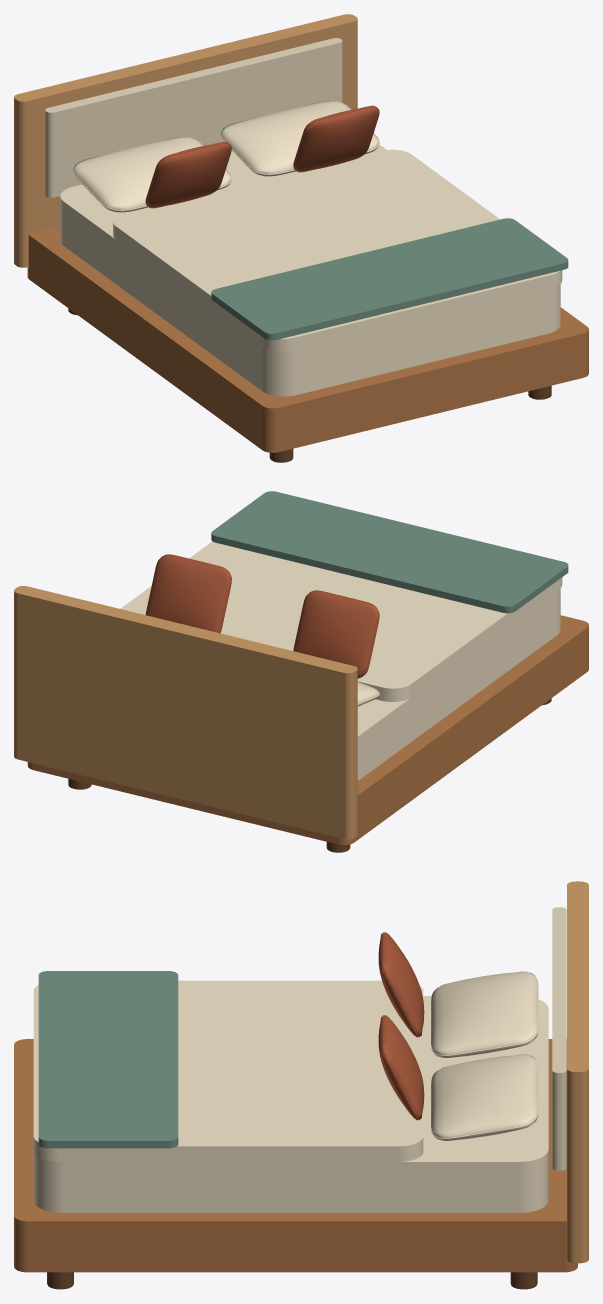
The model's file is bedroom-queen-bed.gltf.
3 views of the same model, one above another, from view 1: azimuth 30°, elevation 25°; view 2: azimuth 150°, elevation 25°; view 3: azimuth 270°, elevation 25° (orthographic). The views are drawn at different scales.
Visible parts, largest first — view 1: Bed linen duvet, Bed oak platform frame, Queen bed mattress, Sage bed throw, Bed upholstered headboard inset, Bed timber headboard, Bed sleeping pillow (×2), Bed accent cushion (×2); view 2: Bed timber headboard, Sage bed throw, Bed linen duvet, Bed oak platform frame, Bed accent cushion (×2), Queen bed mattress; view 3: Bed linen duvet, Bed oak platform frame, Queen bed mattress, Sage bed throw, Bed sleeping pillow (×2), Bed timber headboard, Bed accent cushion (×2), Bed upholstered headboard inset.
Part boxes in pixels (<box>): Bed linen duvet: <box>113,149,562,352</box>; Bed oak platform frame: <box>27,226,588,452</box>; Queen bed mattress: <box>60,144,560,396</box>; Sage bed throw: <box>211,218,568,340</box>; Bed upholstered headboard inset: <box>45,38,342,197</box>; Bed timber headboard: <box>14,14,357,267</box>; Bed sleeping pillow (×2): <box>72,101,379,212</box>; Bed accent cushion (×2): <box>145,105,379,208</box>; Bed timber headboard: <box>14,586,357,839</box>; Sage bed throw: <box>211,491,568,613</box>; Bed linen duvet: <box>120,541,562,701</box>; Bed oak platform frame: <box>27,615,588,844</box>; Bed accent cushion (×2): <box>145,554,379,678</box>; Queen bed mattress: <box>357,588,560,780</box>; Bed linen duvet: <box>33,980,423,1161</box>; Bed oak platform frame: <box>14,1039,577,1272</box>; Queen bed mattress: <box>33,996,548,1212</box>; Sage bed throw: <box>38,971,178,1148</box>; Bed sleeping pillow (×2): <box>431,971,538,1140</box>; Bed timber headboard: <box>567,881,588,1263</box>; Bed accent cushion (×2): <box>378,932,424,1120</box>; Bed upholstered headboard inset: <box>552,907,566,1170</box>.
Size of the model in its own units: 1.84 by 1.05 by 2.35.
